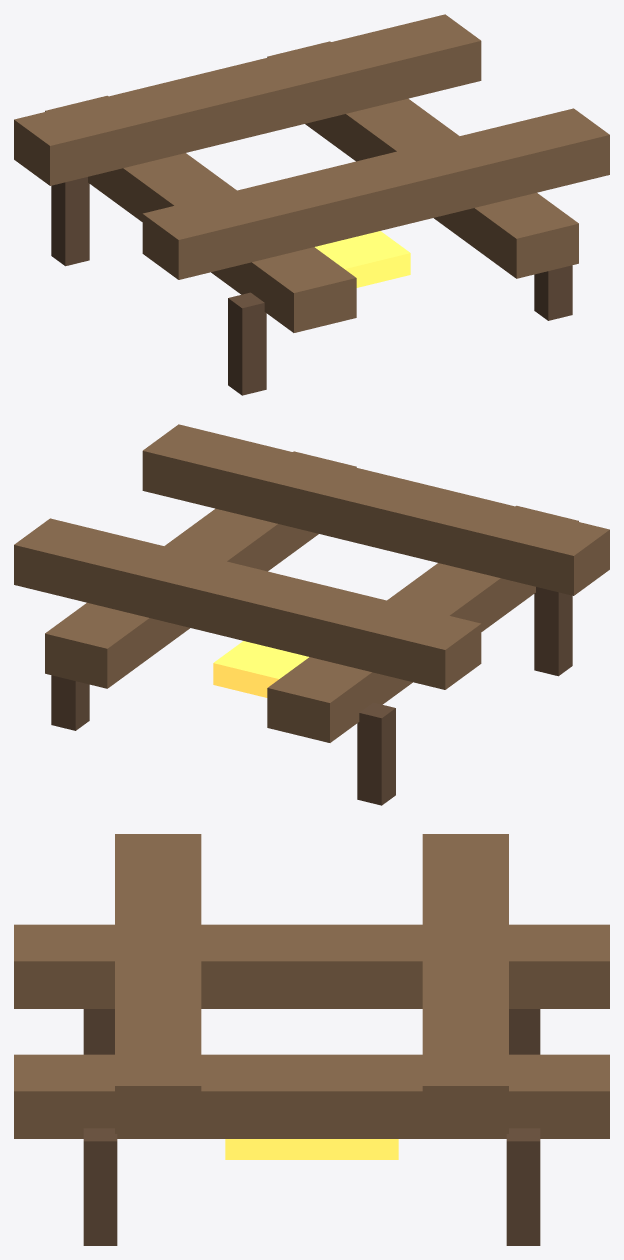
The model's file is campfire-base.glb.
3 views of the same model, one above another, from view 1: azimuth 30°, elevation 25°; view 2: azimuth 150°, elevation 25°; view 3: azimuth 270°, elevation 25° (orthographic). The views are drawn at different scales.
Parts seen in each view (by area): view 1: Beam_L2_0, Beam_L2_1, Beam_L1_1, Beam_L1_0, Leg_0, Embers, Leg_2, Leg_1; view 2: Beam_L2_1, Beam_L2_0, Beam_L1_1, Beam_L1_0, Leg_2, Embers, Leg_0, Leg_3; view 3: Beam_L1_1, Beam_L1_0, Beam_L2_0, Beam_L2_1, Leg_1, Leg_3, Embers, Leg_0, Leg_2.
Part boxes in pixels (box(x1,y1,x2,y2)): Beam_L2_0: box(142, 108, 609, 279); Beam_L2_1: box(14, 14, 481, 185); Beam_L1_1: box(267, 41, 578, 278); Beam_L1_0: box(45, 95, 356, 332); Leg_0: box(228, 292, 266, 395); Embers: box(315, 231, 410, 287); Leg_2: box(51, 177, 89, 266); Leg_1: box(534, 265, 572, 320); Beam_L2_1: box(14, 518, 481, 689); Beam_L2_0: box(142, 424, 609, 595); Beam_L1_1: box(45, 451, 356, 688); Beam_L1_0: box(267, 505, 578, 742); Leg_2: box(357, 702, 395, 805); Embers: box(213, 641, 308, 697); Leg_0: box(534, 587, 572, 676); Leg_3: box(51, 675, 89, 730); Beam_L1_1: box(14, 1054, 609, 1138); Beam_L1_0: box(14, 924, 609, 1008); Beam_L2_0: box(115, 834, 201, 1133); Beam_L2_1: box(422, 834, 508, 1133); Leg_1: box(83, 1128, 117, 1245); Leg_3: box(506, 1128, 540, 1245); Embers: box(225, 1139, 398, 1159); Leg_0: box(83, 1009, 114, 1054); Leg_2: box(509, 1009, 540, 1054).
Bounding box in the file's own units: 0.62 × 0.2175 × 0.62.
